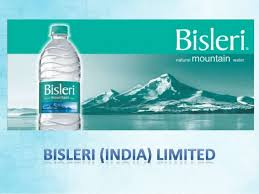Bisleri: (39, 80, 80, 113)
plastic: (39, 24, 83, 129)
